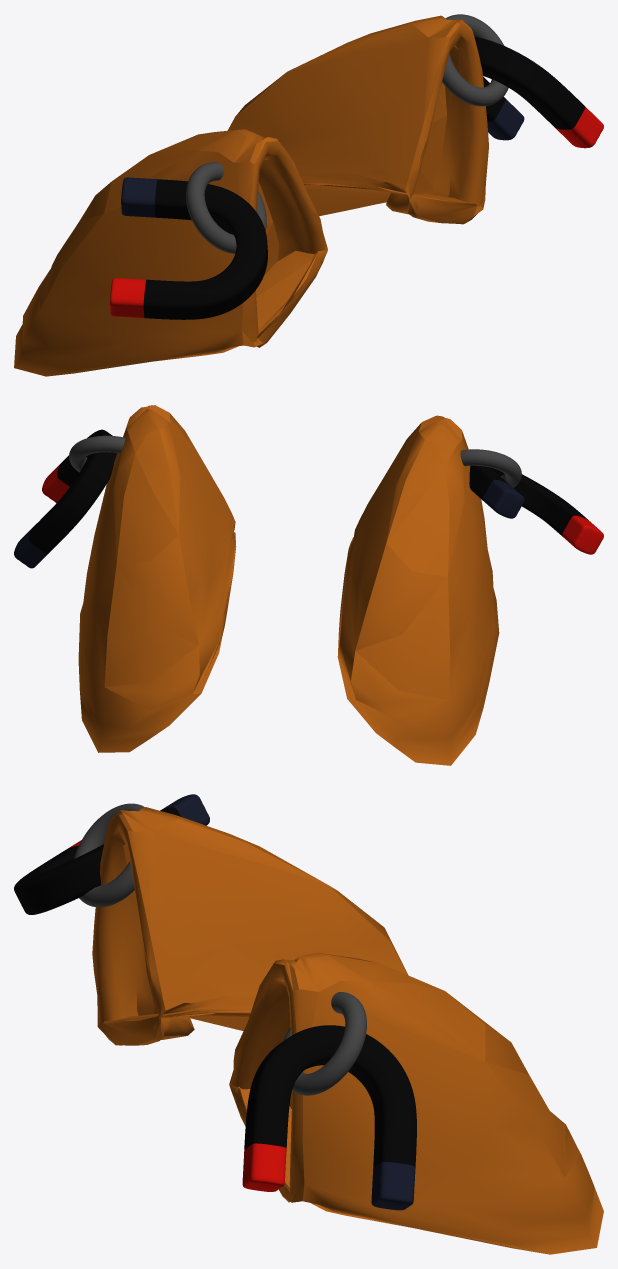
3 renders of one model, top to bottom at view 1: azimuth 30°, elevation 25°; view 2: azimuth 150°, elevation 25°; view 3: azimuth 270°, elevation 25°, orthographic. The views are drawn at different scales.
Parts seen in each view (by area): view 1: ears_006, Tube, Torus; view 2: ears_006, Tube, Torus; view 3: ears_006, Tube, Torus.
Part boxes in pixels (x1=…): ears_006: x1=14, y1=15, x2=488, y2=376; Tube: x1=109, y1=36, x2=603, y2=319; Torus: x1=186, y1=14, x2=508, y2=253; ears_006: x1=78, y1=405, x2=499, y2=765; Tube: x1=14, y1=429, x2=603, y2=568; Torus: x1=69, y1=435, x2=521, y2=487; ears_006: x1=92, y1=807, x2=603, y2=1254; Tube: x1=14, y1=794, x2=416, y2=1210; Torus: x1=74, y1=803, x2=366, y2=1095.
Size of the model in its own units: 110 by 85.97 by 52.81.
